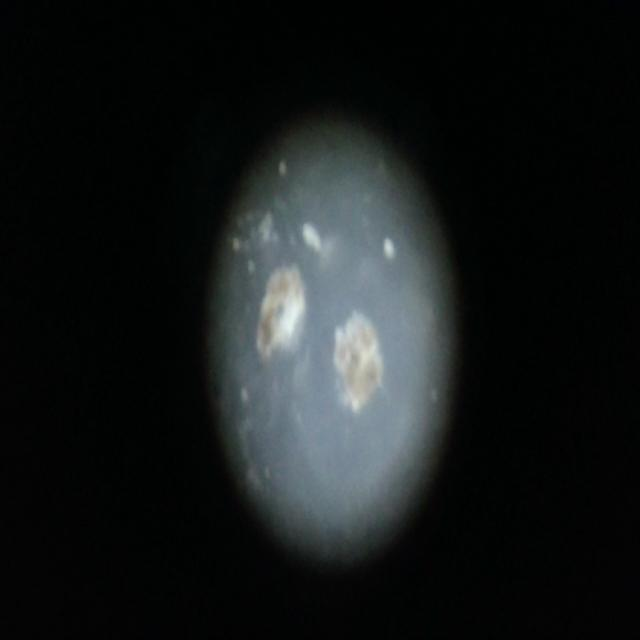alexandrium: (252, 245, 305, 374), (326, 316, 386, 426)
